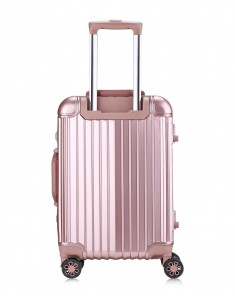luggage: (52, 21, 185, 280)
